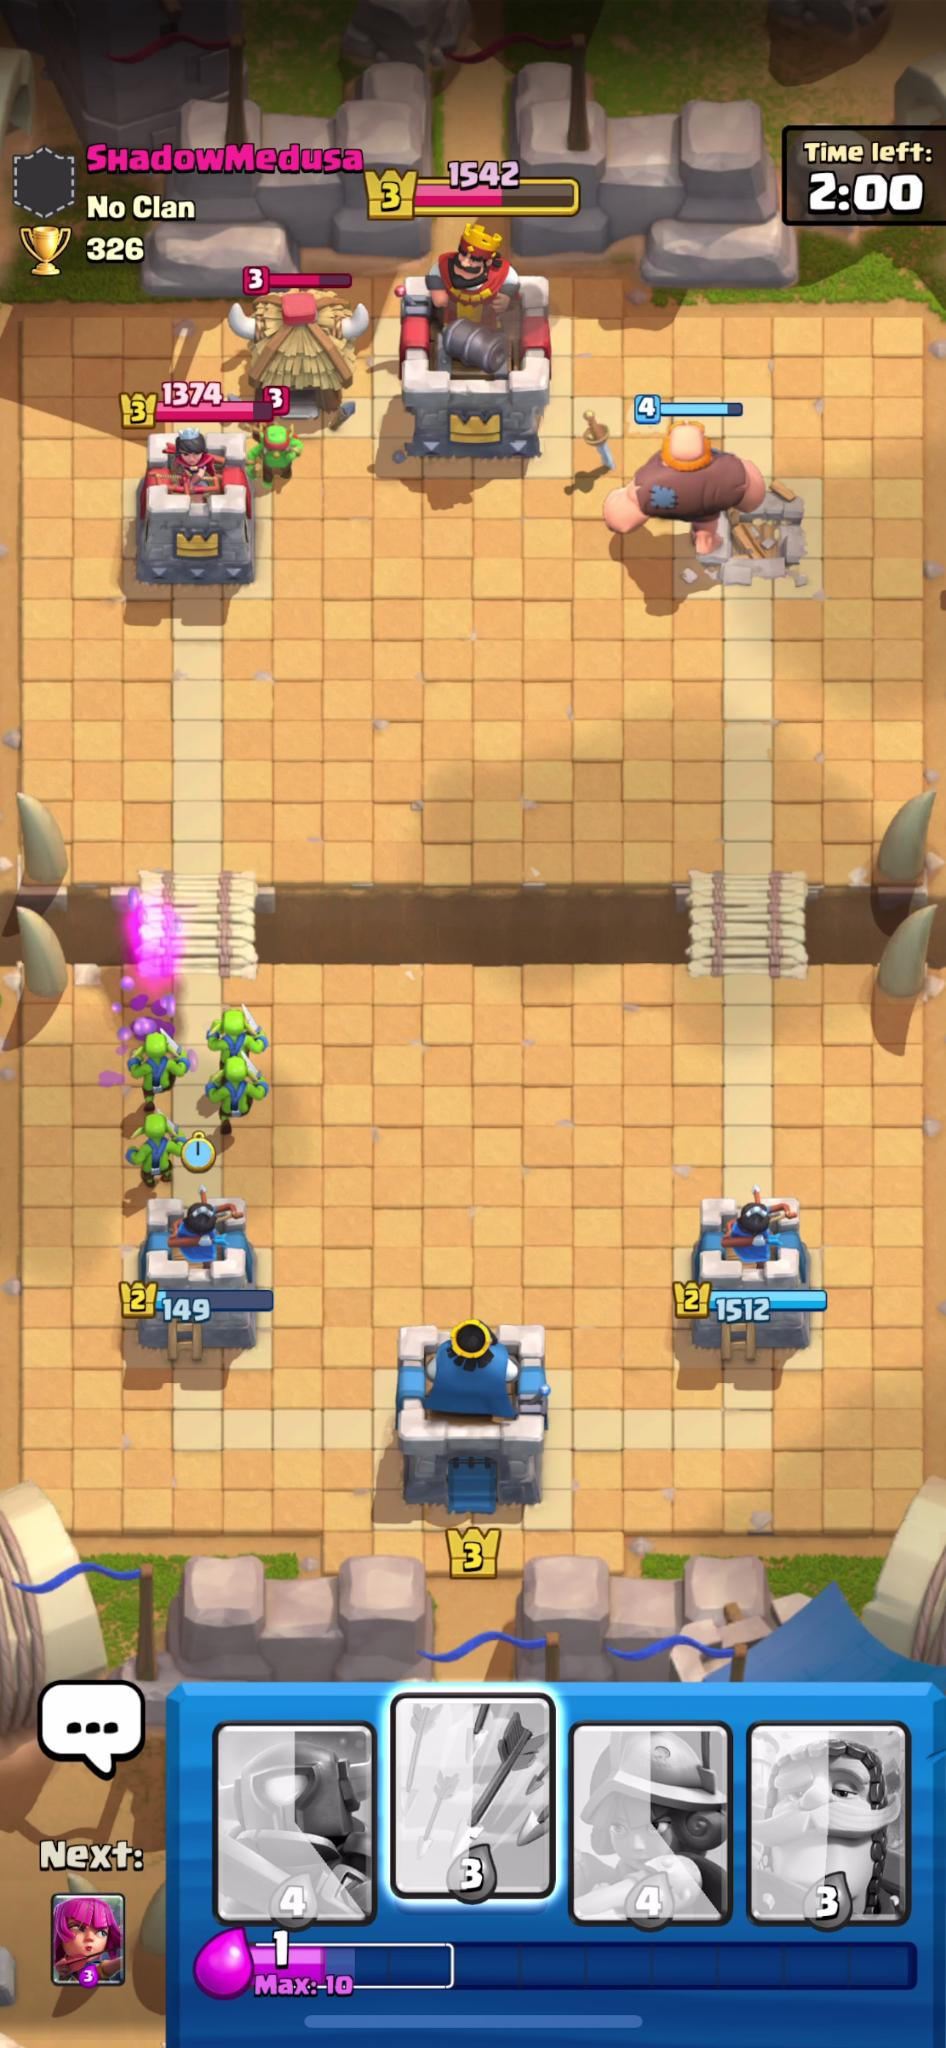geant: (601, 414, 785, 569)
gobelin_lances: (116, 1025, 195, 1101), (118, 1113, 187, 1192), (204, 1059, 272, 1127), (205, 998, 267, 1071), (243, 422, 303, 495)
